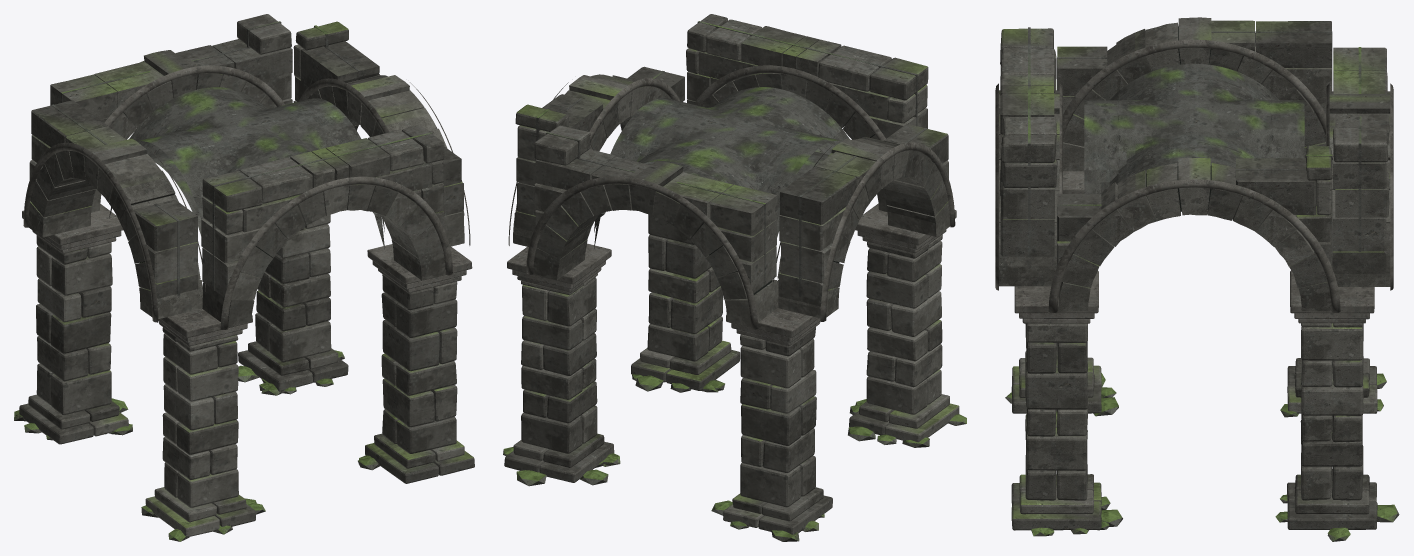
The model's file is ER_Galerie_Voutee_Travee_4m.gltf.
3 views of the same model, side by side, from view 1: azimuth 30°, elevation 25°; view 2: azimuth 150°, elevation 25°; view 3: azimuth 270°, elevation 25° (orthographic). The views are drawn at different scales.
Visible parts, largest first — view 1: ER_Galerie_Voutee_Travee_4m_P.001, ER_Galerie_Voutee_Travee_4m_PS.001, ER_Galerie_Voutee_Travee_4m_MOUL.001, ER_Galerie_Voutee_Travee_4m_PM.001; view 2: ER_Galerie_Voutee_Travee_4m_P.001, ER_Galerie_Voutee_Travee_4m_PS.001, ER_Galerie_Voutee_Travee_4m_MOUL.001, ER_Galerie_Voutee_Travee_4m_PM.001; view 3: ER_Galerie_Voutee_Travee_4m_P.001, ER_Galerie_Voutee_Travee_4m_PS.001, ER_Galerie_Voutee_Travee_4m_MOUL.001, ER_Galerie_Voutee_Travee_4m_PM.001.
Part boxes in pixels (x1,y1,x2,y2): ER_Galerie_Voutee_Travee_4m_P.001: (19,14,474,537); ER_Galerie_Voutee_Travee_4m_PS.001: (51,21,442,295); ER_Galerie_Voutee_Travee_4m_MOUL.001: (22,65,472,346); ER_Galerie_Voutee_Travee_4m_PM.001: (14,350,379,541); ER_Galerie_Voutee_Travee_4m_P.001: (504,14,959,534); ER_Galerie_Voutee_Travee_4m_PS.001: (536,21,927,296); ER_Galerie_Voutee_Travee_4m_MOUL.001: (507,65,956,345); ER_Galerie_Voutee_Travee_4m_PM.001: (503,374,966,541); ER_Galerie_Voutee_Travee_4m_P.001: (999,17,1390,530); ER_Galerie_Voutee_Travee_4m_PS.001: (1028,27,1361,263); ER_Galerie_Voutee_Travee_4m_MOUL.001: (995,39,1393,323); ER_Galerie_Voutee_Travee_4m_PM.001: (1005,373,1399,541).
Size of the model in its own units: 5.84 by 6.01 by 5.86.
5 materials, 4 textured.
